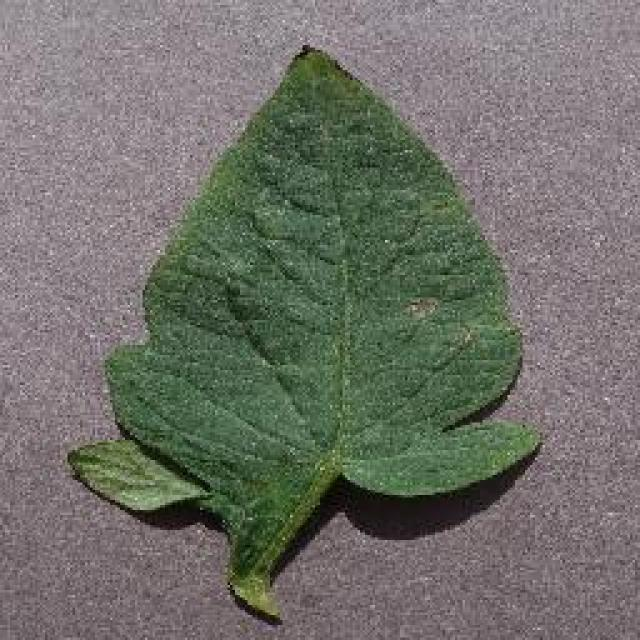Tomato Septoria spot leaf: (66, 39, 542, 541)
